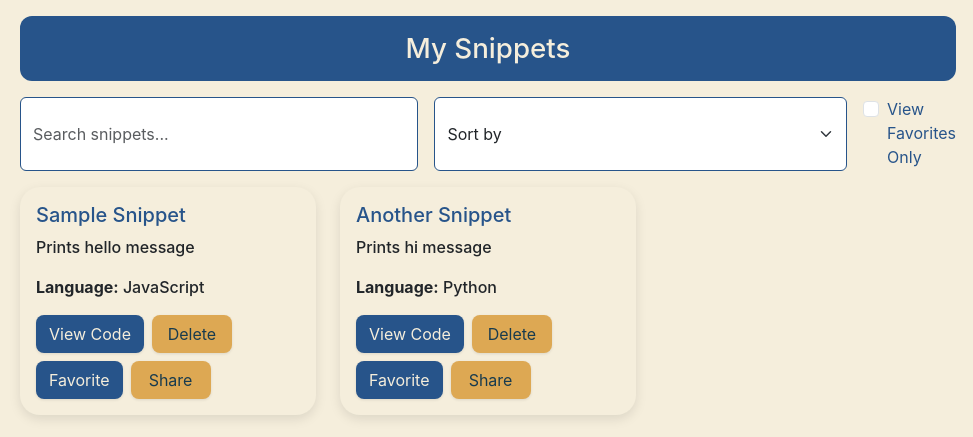
MySnippets Component › filters snippets based on search input
expect the heading "Sample Snippet" is shown: met, box [36, 203, 186, 227]
Type "Python" into the field with placeholder "Search snippets...".
click(219, 134); type("Python")  # box [20, 97, 418, 171]
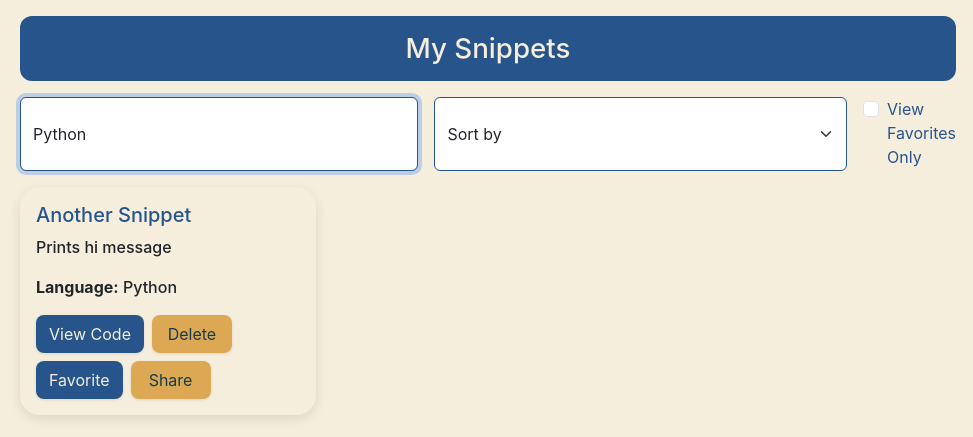
expect the heading "Another Snippet" is shown: met, box [36, 203, 191, 227]
expect the heading "Sample Snippet" is gone: met
